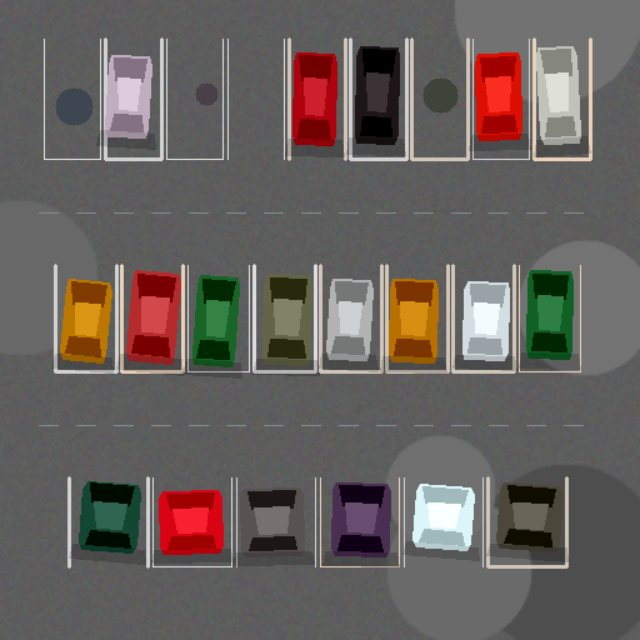space-empty: (166, 39, 223, 159), (227, 39, 284, 159), (44, 39, 100, 159), (411, 39, 467, 159)
space-occupied: (236, 478, 315, 566), (320, 478, 399, 566), (404, 478, 483, 566), (487, 478, 566, 566), (69, 478, 147, 566), (153, 478, 231, 566), (105, 39, 161, 159), (289, 39, 345, 159), (350, 39, 406, 159), (473, 39, 529, 159), (534, 39, 590, 159), (121, 265, 183, 371), (187, 265, 249, 371), (55, 265, 116, 371), (254, 265, 315, 371), (320, 265, 381, 371), (386, 265, 447, 371), (453, 265, 514, 371), (519, 265, 580, 371)
